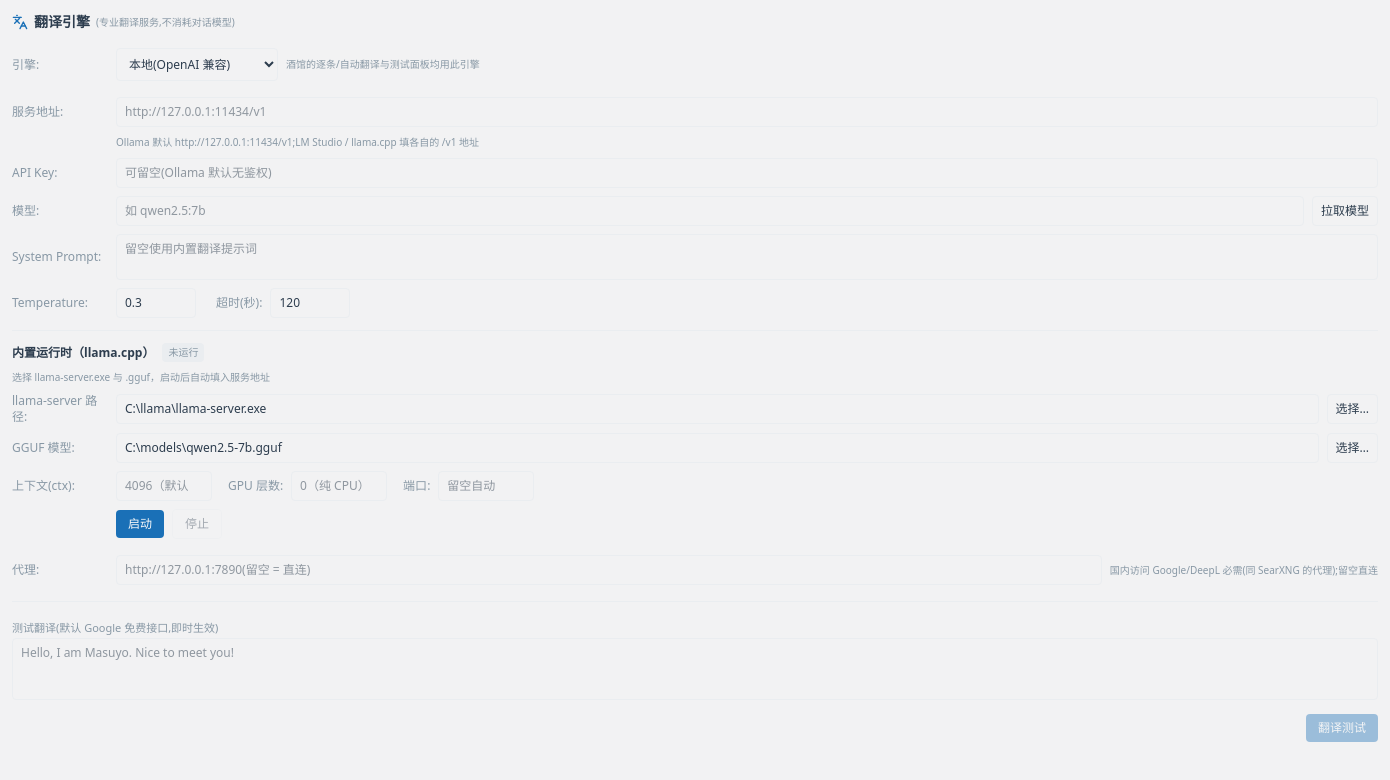
Test: TranslateManager — 内置运行时（llama.cpp） › 启动成功 → 显示端口/pid，并把 translate_local_url 设为对应 /v1
Click the button "启动".
click(140, 524)  # box [116,510,164,538]
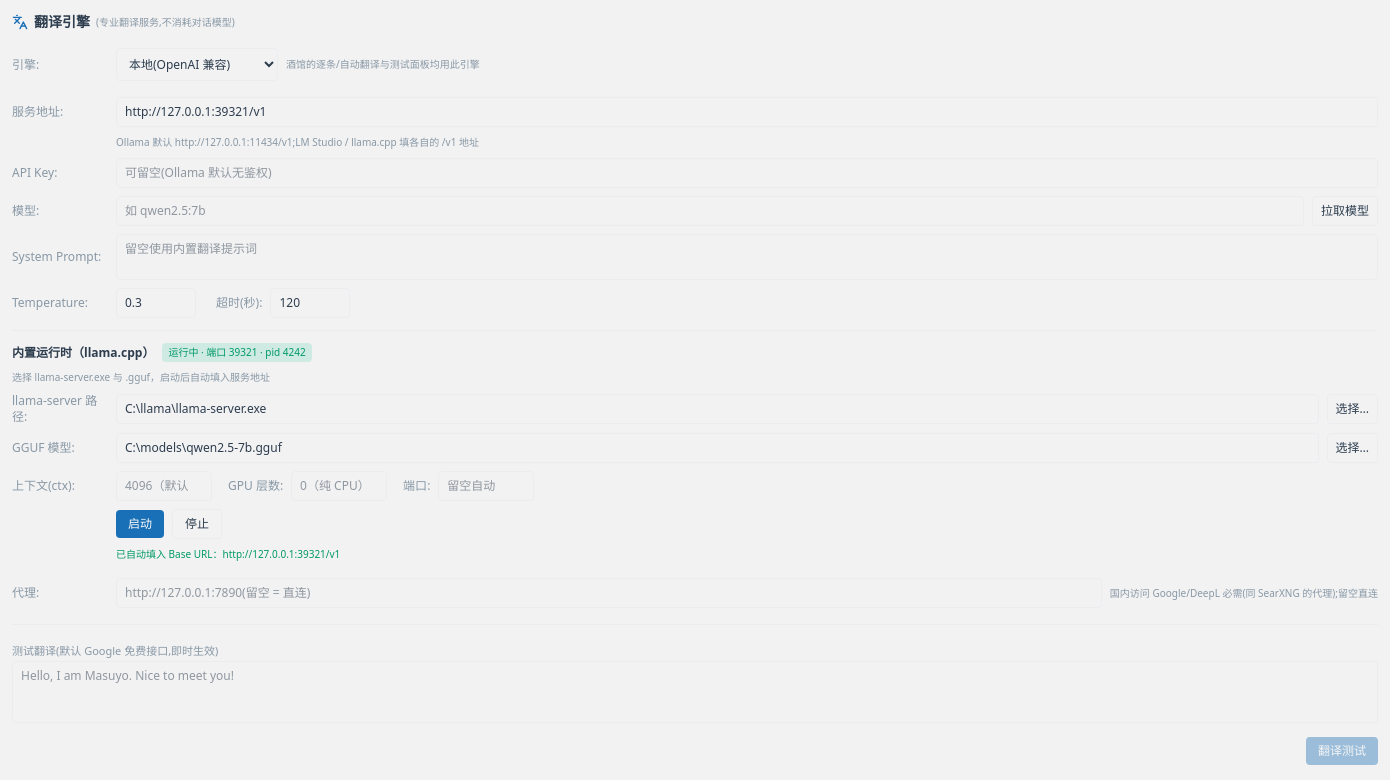
Expected: the text "运行中 · 端口 39321 · pid 4242" is shown, [162,343,312,362]
Expected: the text "已自动填入 Base URL：http://127.0.0.1:39321/v1" is shown, [116,547,340,561]
